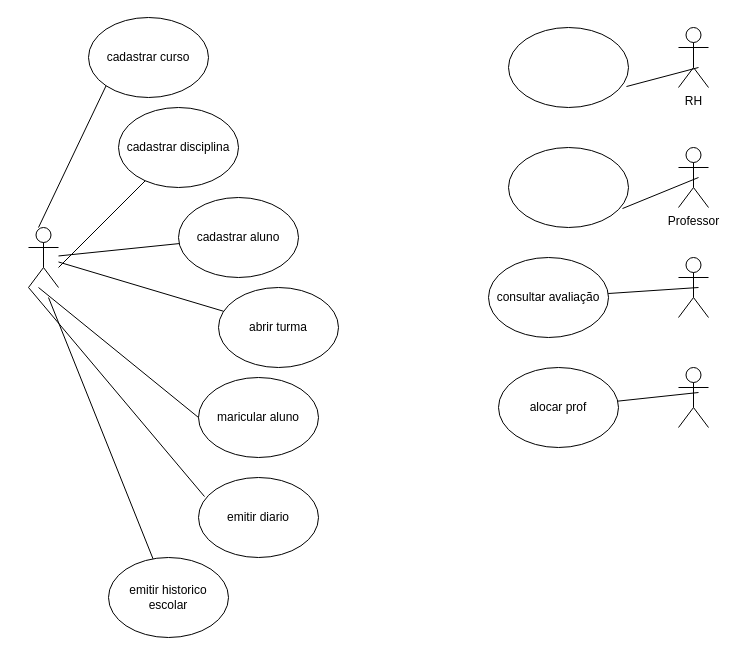
This 744x655 diagram has some shape labels left out. Each missing label, with the centre of its shape:
"aluno" belongs at [693,287].
"cadatrar professor" belongs at [568,67].
"coordenador" belongs at [693,397].
"lançar avaliação" belongs at [568,187].
"secretaria" belongs at [43,257].
